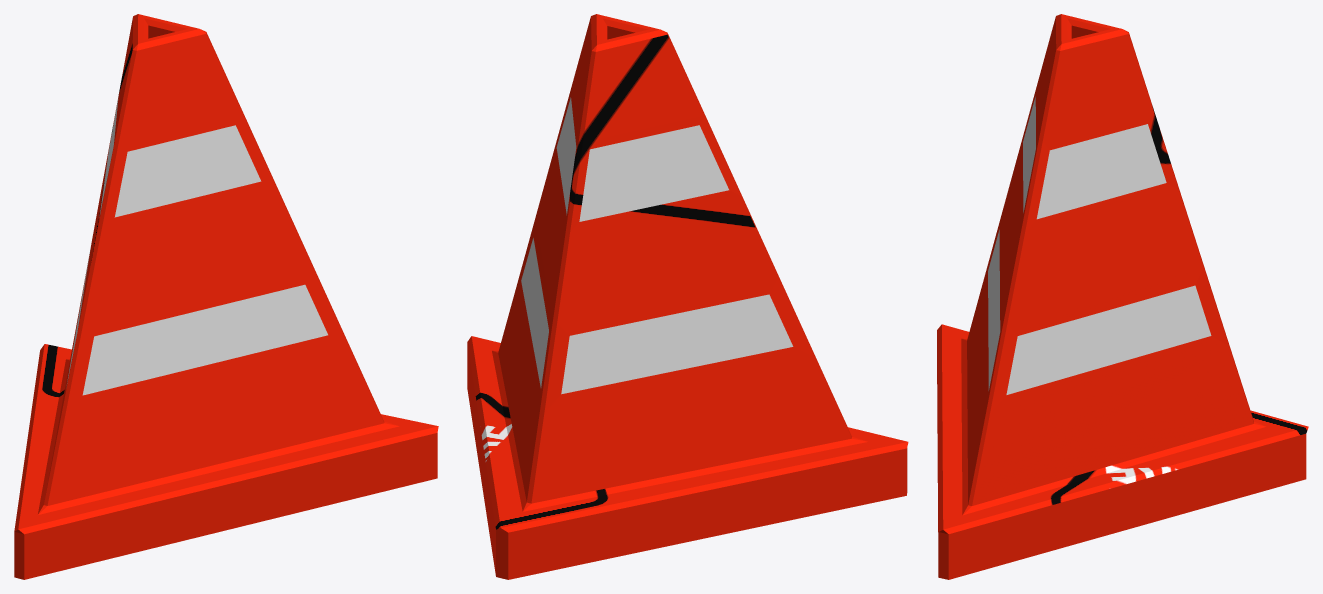
3 renders of one model, left to right at view 1: azimuth 30°, elevation 25°; view 2: azimuth 150°, elevation 25°; view 3: azimuth 270°, elevation 25°, orthographic. The views are drawn at different scales.
Visible parts, largest first — view 1: Cube.033; view 2: Cube.033; view 3: Cube.033.
Boxes of the visible parts, bbox=[...] form: Cube.033: bbox=[14, 14, 438, 579]; Cube.033: bbox=[467, 14, 908, 579]; Cube.033: bbox=[937, 14, 1308, 579].
Size of the model in its own units: 103 by 104 by 78.16.
Materials: 2 (1 with a texture image).
